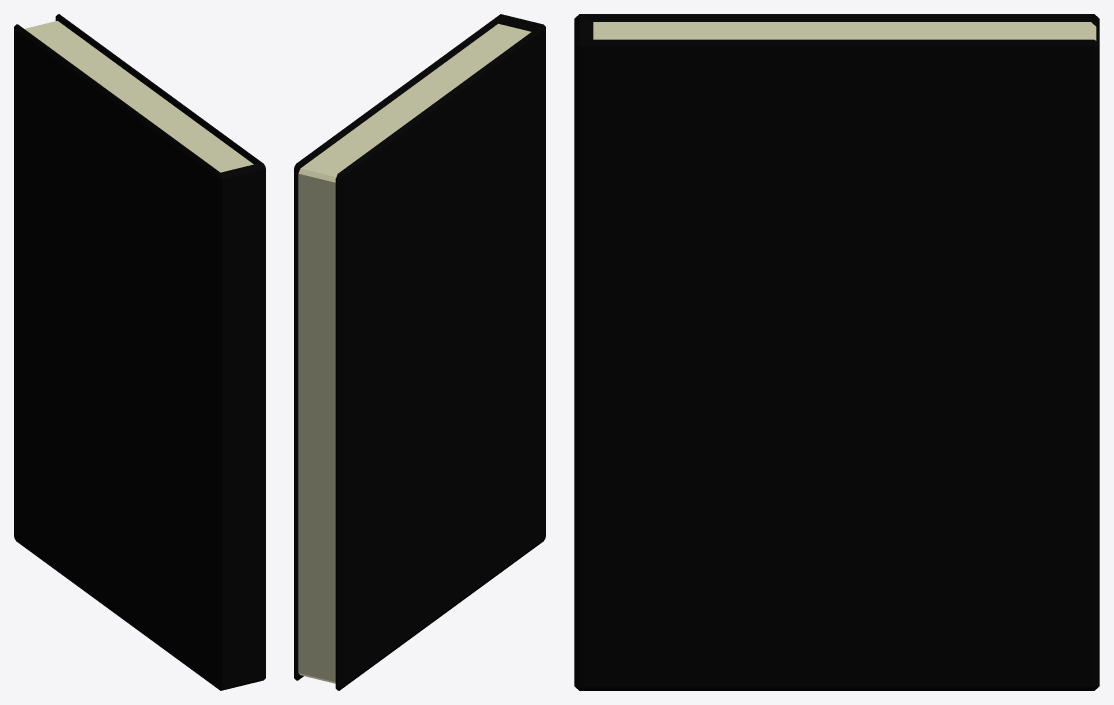
Rendered from BOOK_10.fbx.
3 renders of one model, left to right at view 1: azimuth 30°, elevation 25°; view 2: azimuth 150°, elevation 25°; view 3: azimuth 270°, elevation 25°, orthographic. The views are drawn at different scales.
Parts seen in each view (by area): view 1: BOOK_10; view 2: BOOK_10; view 3: BOOK_10.
Boxes of the visible parts, x1,y1,x2,y2 form: BOOK_10: (14, 14, 265, 690); BOOK_10: (294, 14, 545, 690); BOOK_10: (574, 14, 1099, 690).
Bounding box in the file's own units: 1.52 × 16 × 11.71.
